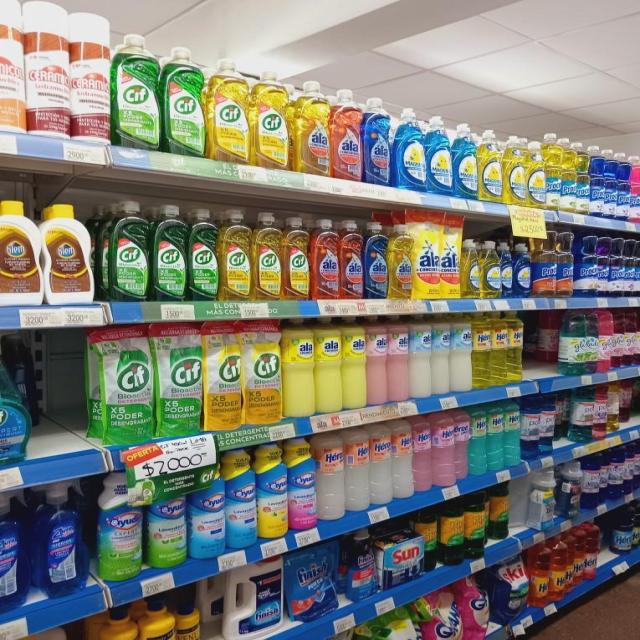ala_conc_amarillo: (294, 80, 330, 176), (389, 223, 412, 300)
ala_conc_azul: (362, 96, 392, 185), (364, 221, 388, 299)
ala_conc_rojo: (331, 88, 362, 180), (311, 218, 339, 300), (340, 220, 364, 300)
ala_crem_amarillo: (282, 317, 314, 418), (315, 317, 342, 414), (343, 316, 366, 410)
ala_crem_blanco: (410, 313, 430, 399), (451, 311, 472, 392), (432, 312, 450, 394)
ala_crem_rosado: (367, 315, 387, 406), (388, 315, 408, 403)
ala_sachet_amarillo: (413, 213, 439, 300), (439, 214, 462, 299)
cif_conc_bot_amarilla: (207, 56, 250, 164), (252, 68, 292, 169), (220, 208, 250, 302), (252, 212, 282, 301), (282, 215, 310, 301)
cif_conc_botella_verde: (113, 33, 161, 150), (162, 45, 205, 157), (105, 199, 149, 302), (152, 202, 186, 302), (188, 207, 218, 301)
cif_conc_sachet_amarillo: (243, 319, 282, 425), (205, 320, 242, 431)
cif_conc_sachet_verde: (95, 325, 153, 444), (156, 322, 202, 437)
heroe: (317, 431, 345, 522), (345, 426, 369, 512), (369, 422, 391, 504), (432, 412, 454, 487), (392, 418, 412, 499), (412, 416, 431, 493), (473, 312, 490, 388), (468, 408, 487, 476), (491, 310, 507, 384), (504, 399, 521, 468), (508, 310, 524, 383), (455, 409, 468, 481)
magistral_con_amarillo: (478, 127, 503, 202), (504, 133, 526, 205), (526, 138, 546, 207), (462, 239, 481, 299), (481, 240, 500, 298)
magistral_con_azul: (0, 494, 23, 617), (427, 115, 452, 194), (453, 122, 477, 198), (514, 241, 532, 297), (500, 240, 514, 298)
